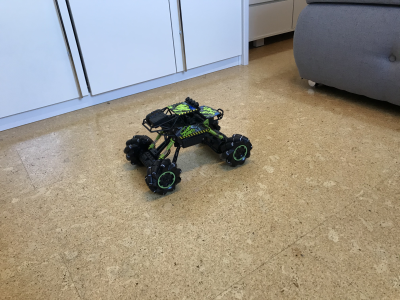remote control car: (120, 94, 254, 198)
